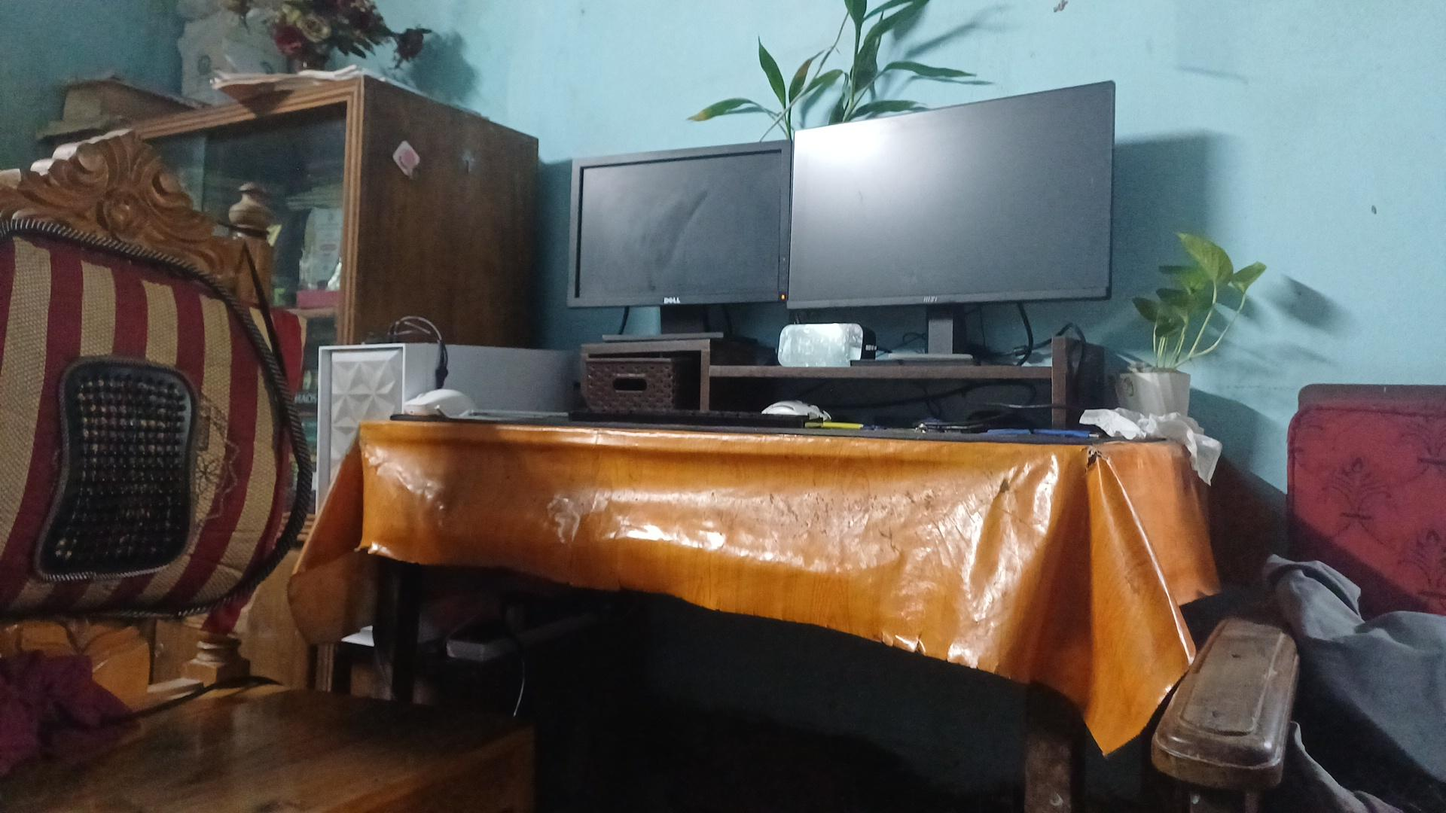Chair: (18, 137, 395, 789)
Clock: (768, 309, 888, 365)
Monitor: (768, 113, 1124, 317), (548, 134, 762, 315)
Mouse: (411, 377, 480, 427)
Plant: (1124, 220, 1266, 440)
